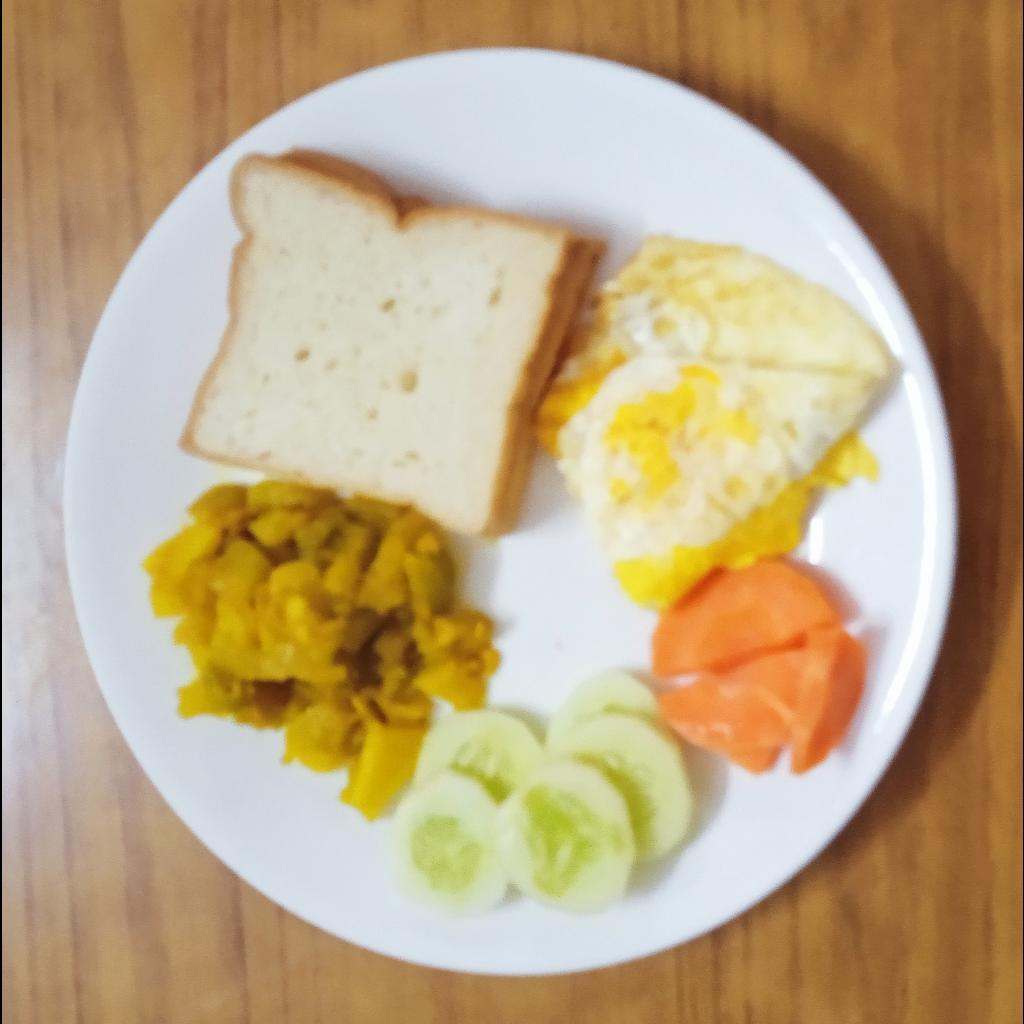bread: (174, 147, 598, 538)
carrot: (649, 562, 867, 780)
cucumber: (386, 669, 698, 917)
egg-poached: (533, 238, 892, 608)
vegetable: (139, 471, 500, 825)
